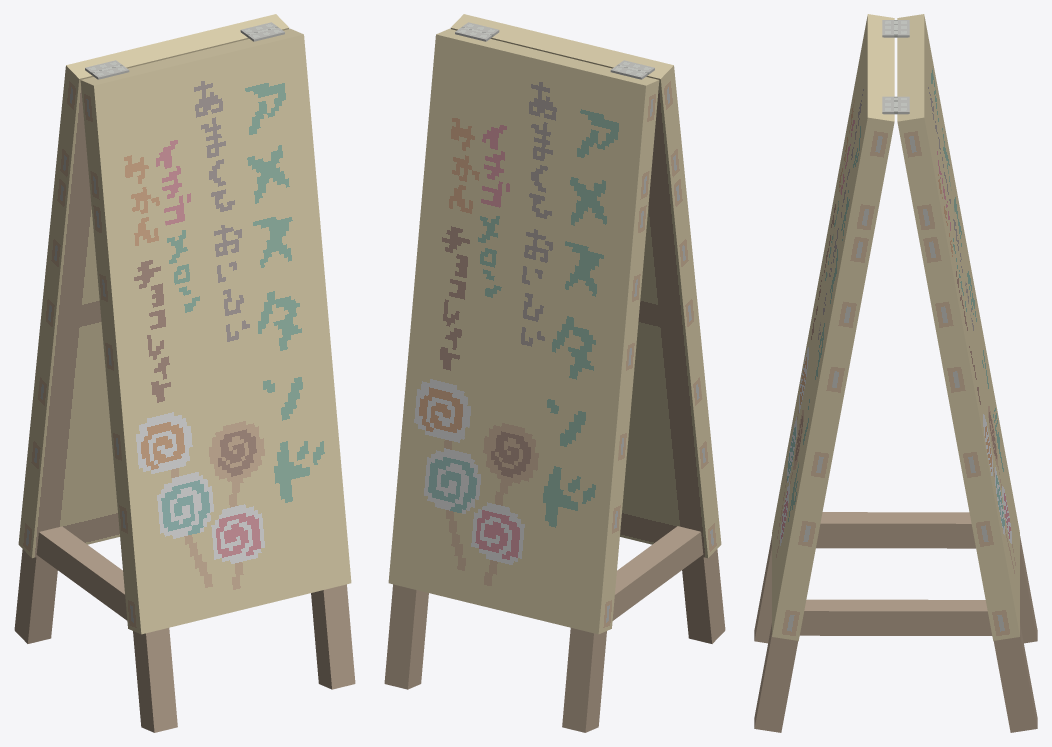
The model's file is 02ad_Candy_Store_Sign.glb.
The picture shows the model from 3 angles, left to right: view 1: azimuth 30°, elevation 25°; view 2: azimuth 150°, elevation 25°; view 3: azimuth 270°, elevation 25°; orthographic projection.
Parts seen in each view (by area): view 1: part_0; view 2: part_0; view 3: part_0.
Boxes of the visible parts, <box> form: part_0: <box>14,14,355,732</box>; part_0: <box>384,14,725,732</box>; part_0: <box>754,14,1037,732</box>.
Size of the model in its own units: 0.54 by 1.5 by 0.6235.
Materials: 1 (1 with a texture image).
